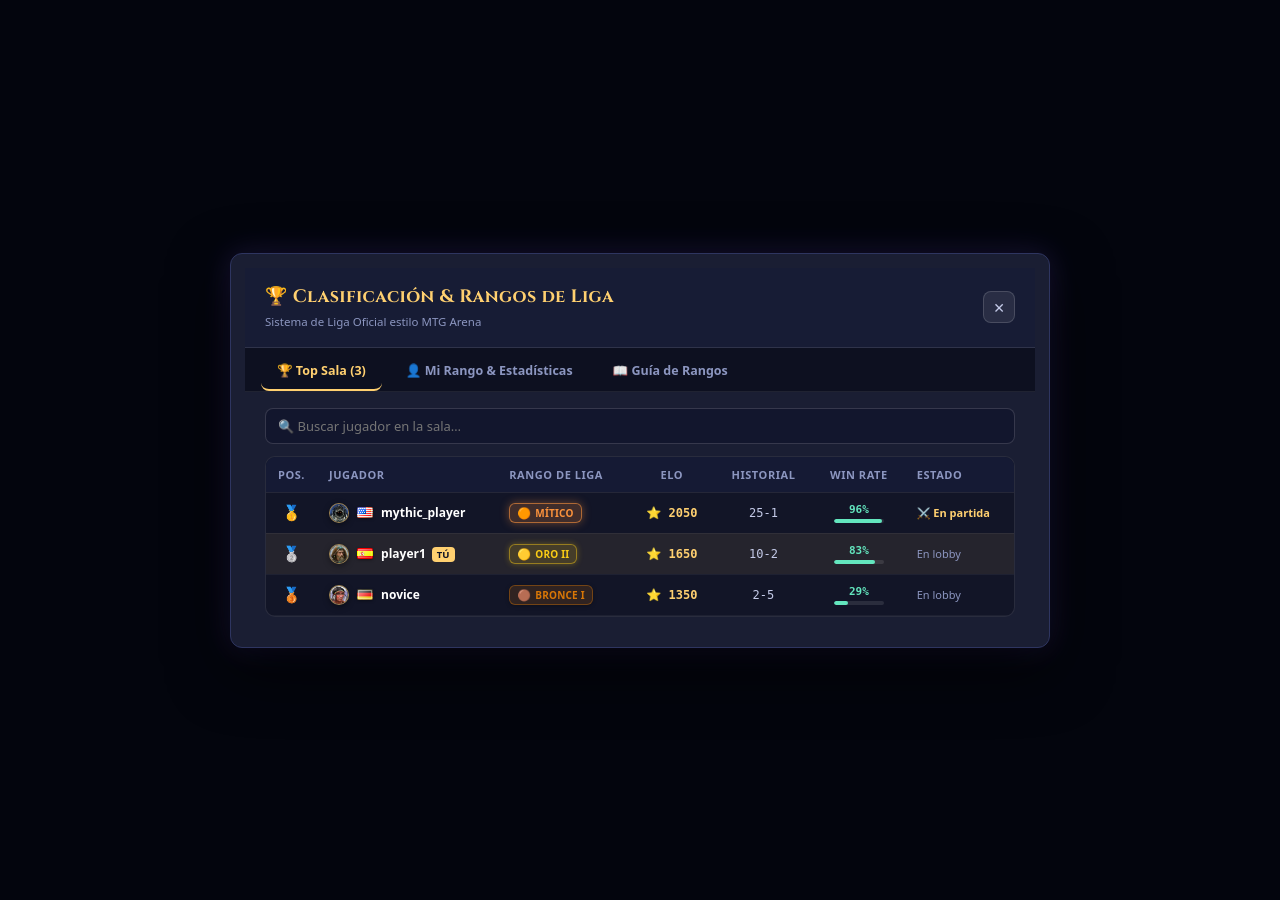
Test case: LeaderboardModal Component › filters leaderboard by search query
The image size is (1280, 900).
Type "mythic" into the field with placeholder "🔍 Buscar jugador en la sala…" at (640, 426), box 265,408 -> 1015,444
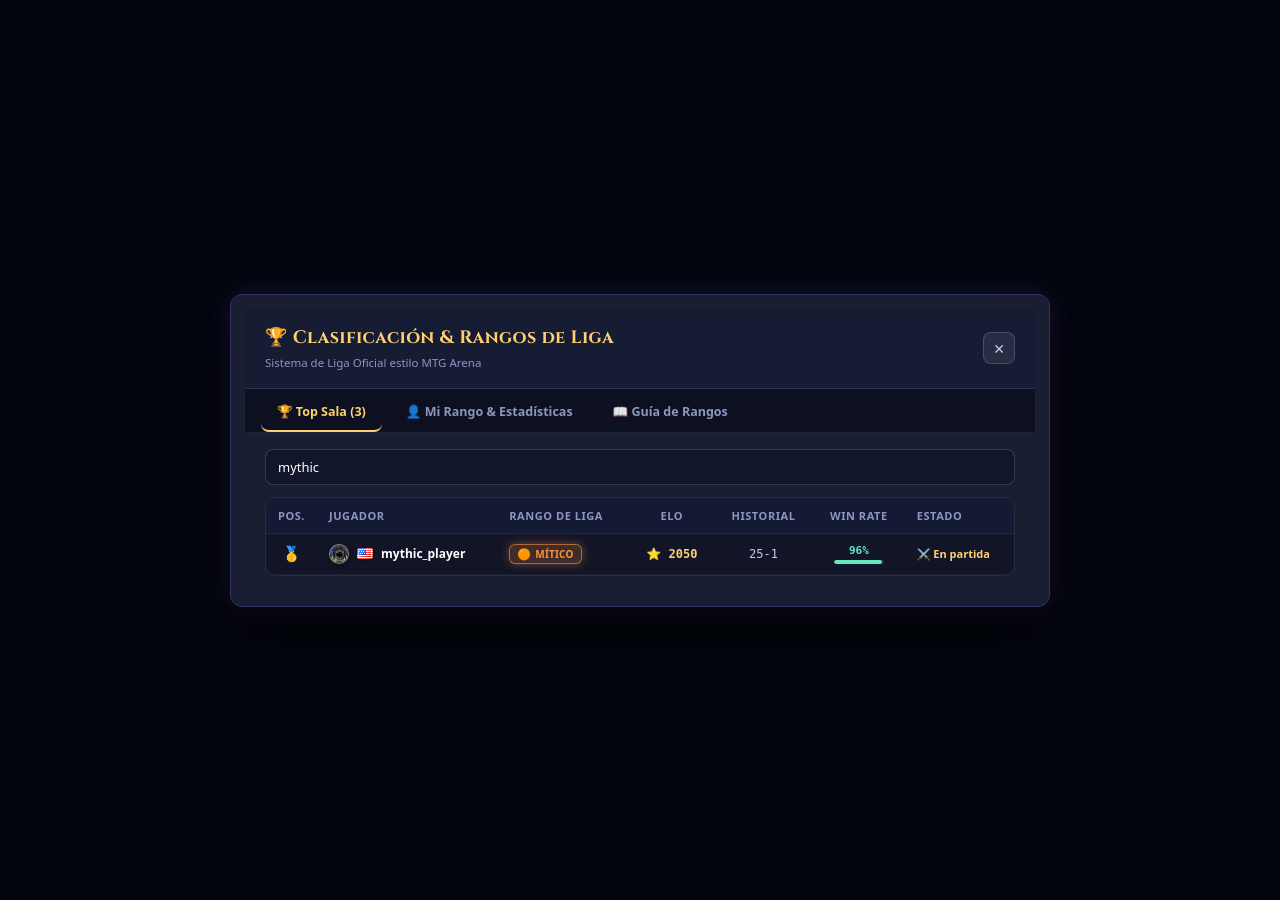
Expected: the text "mythic_player" is shown, 381,545 -> 465,562
Expected: the text "novice" is gone
